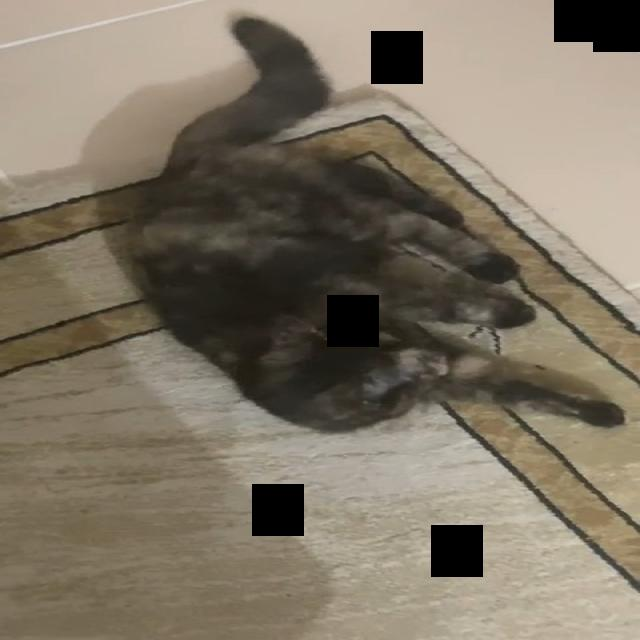authorized: (112, 12, 627, 435)
